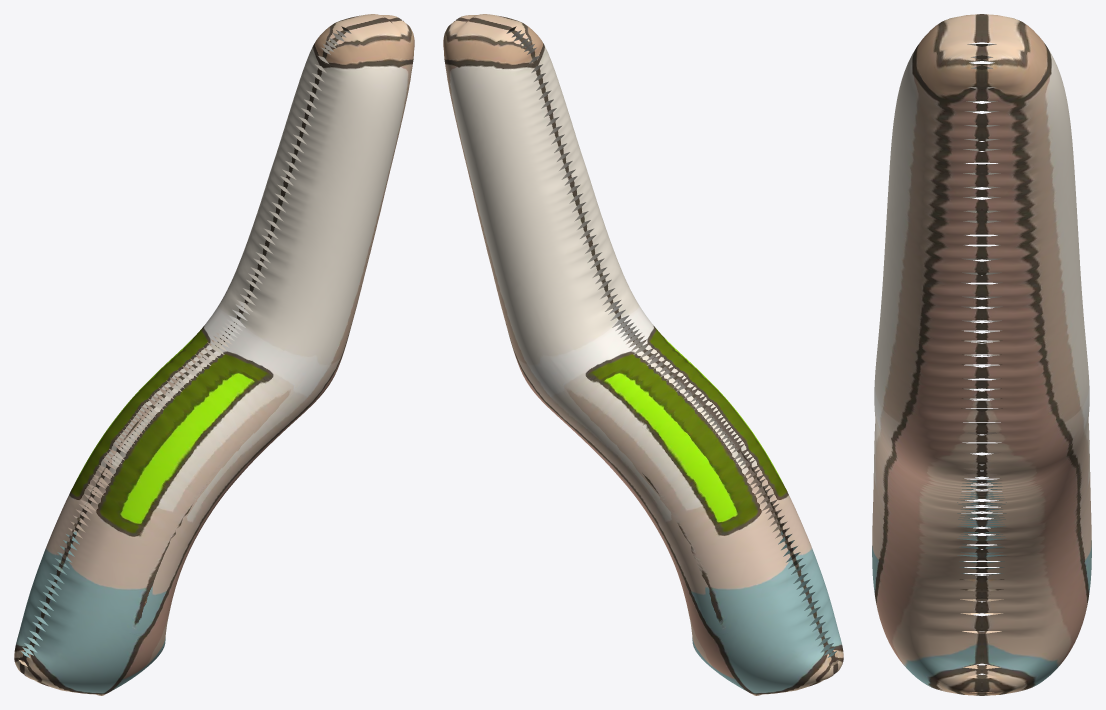
File: corner_window_brace.glb
3 renders of one model, left to right at view 1: azimuth 30°, elevation 25°; view 2: azimuth 150°, elevation 25°; view 3: azimuth 270°, elevation 25°, orthographic. The views are drawn at different scales.
Parts seen in each view (by area): view 1: corner_window_brace; view 2: corner_window_brace; view 3: corner_window_brace.
Part boxes in pixels (x1,y1,x2,y2): corner_window_brace: (14, 14, 414, 695); corner_window_brace: (443, 14, 843, 695); corner_window_brace: (872, 14, 1091, 695).
Bounding box in the file's own units: 0.9839 × 1.45 × 0.3363.
1 material, 1 textured.
